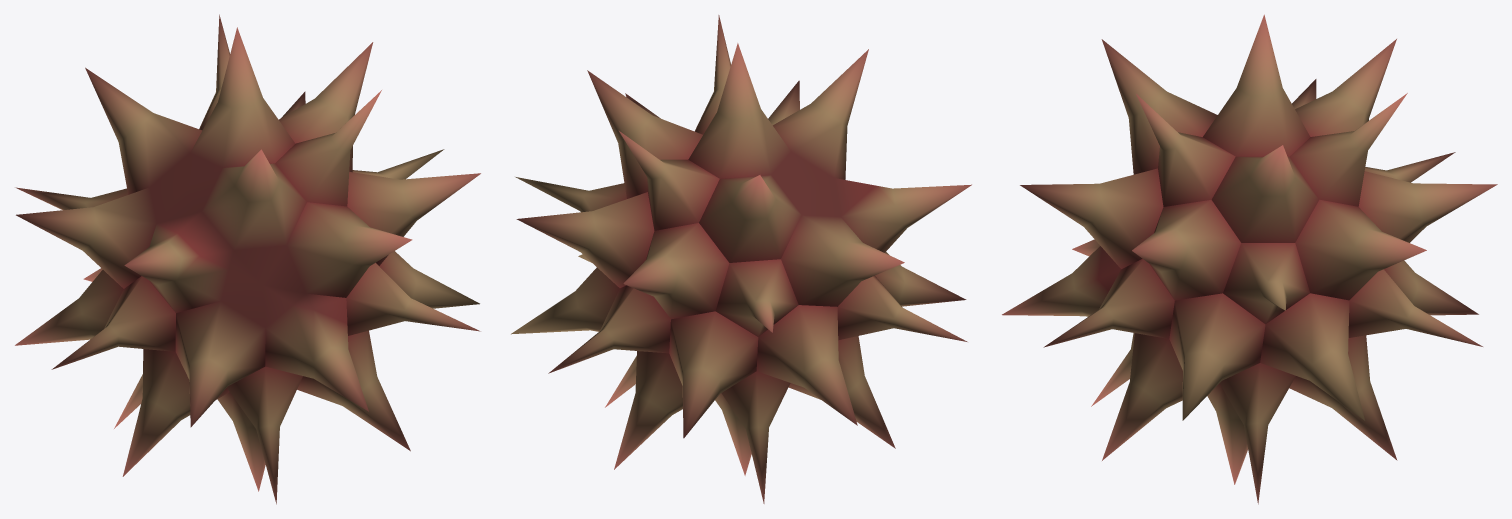
The model's file is microscopic-pollen-spores-sunflower-pollen_v2.glb.
3 views of the same model, side by side, from view 1: azimuth 30°, elevation 25°; view 2: azimuth 150°, elevation 25°; view 3: azimuth 270°, elevation 25° (orthographic). The views are drawn at different scales.
Parts seen in each view (by area): view 1: Sunflower Pollen_v2; view 2: Sunflower Pollen_v2; view 3: Sunflower Pollen_v2.
Boxes of the visible parts, x1,y1,x2,y2 form: Sunflower Pollen_v2: (15,14,480,504); Sunflower Pollen_v2: (511,15,971,503); Sunflower Pollen_v2: (1002,14,1497,504).
Bounding box in the file's own units: 0.2955 × 0.3 × 0.2886.
